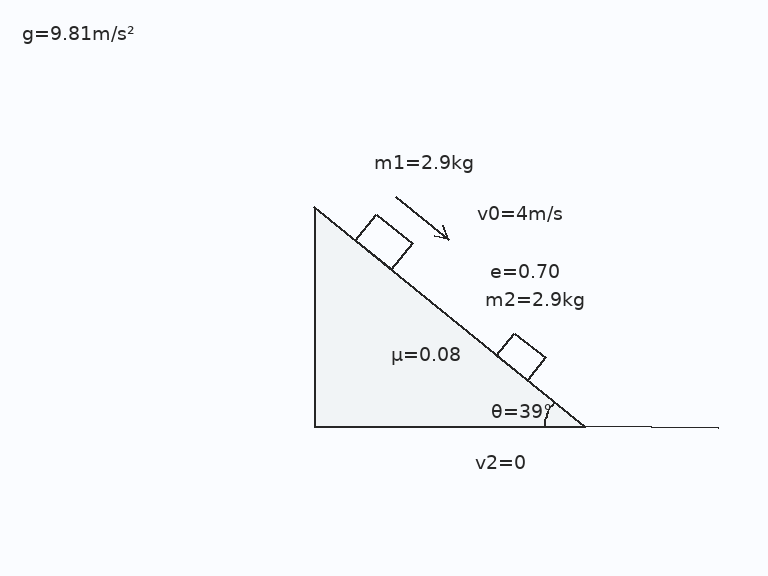block: (353, 212, 414, 272), (494, 330, 547, 382)
ramp: (313, 206, 587, 429)
